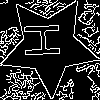H: (24, 21, 69, 59)
